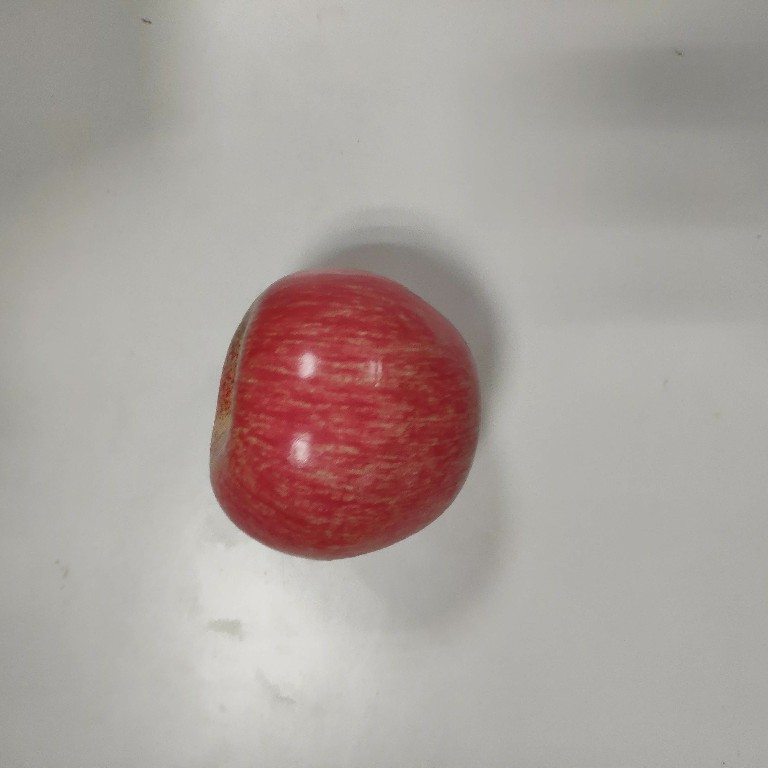fruit_apple: (202, 265, 487, 570)
